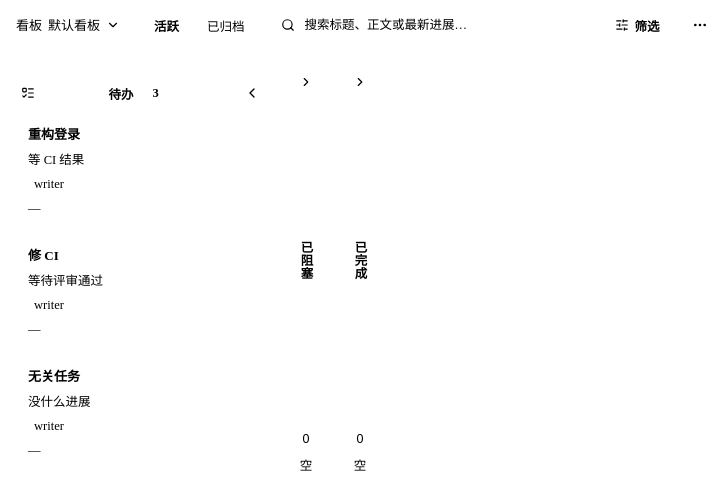
KanbanRoute 搜索与批量删除 › 按 latest_summary 搜索能命中
Type "等待评审" into the field named "搜索任务" at (442, 25), box [303, 16, 581, 34]
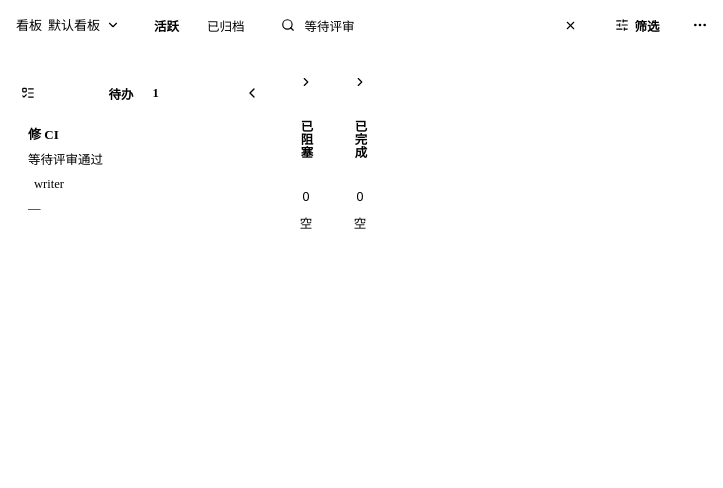
Expected: the text "修 CI" is shown, [28, 127, 59, 142]
Result: the button "重构登录" is gone
